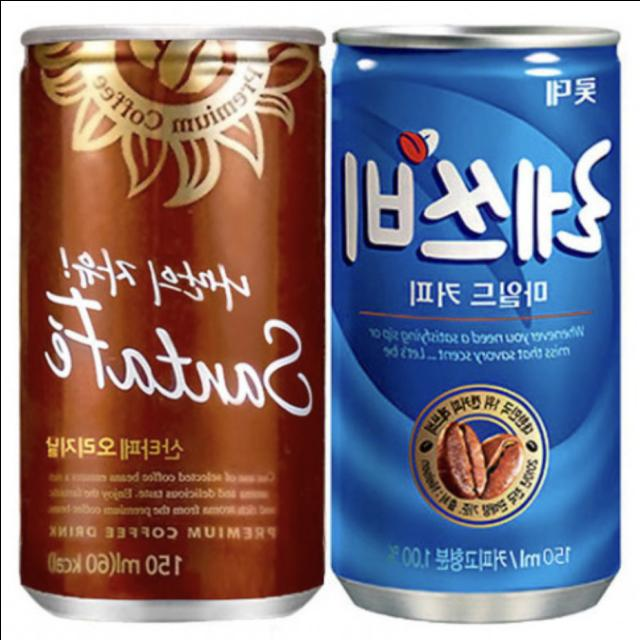can: (11, 2, 333, 632), (325, 7, 630, 636)
